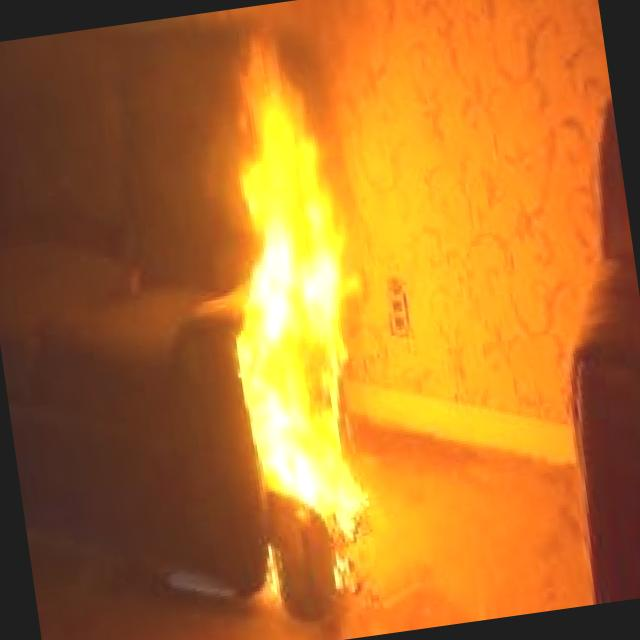fire: (201, 20, 394, 546)
